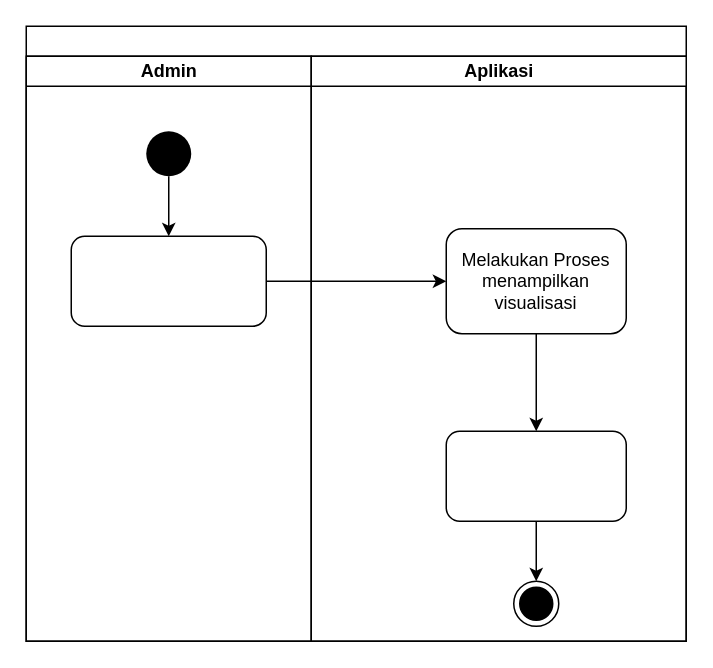
Image size: 713x668. Some labels were removed from this diagram. The shapes that lost their labels are listed below. From the top down, each one's centre as x and y in pixels, then its label:
the point at 168,280: Memilih menu visualisasi
the point at 535,475: Menampilkan Hasil Prediksi
